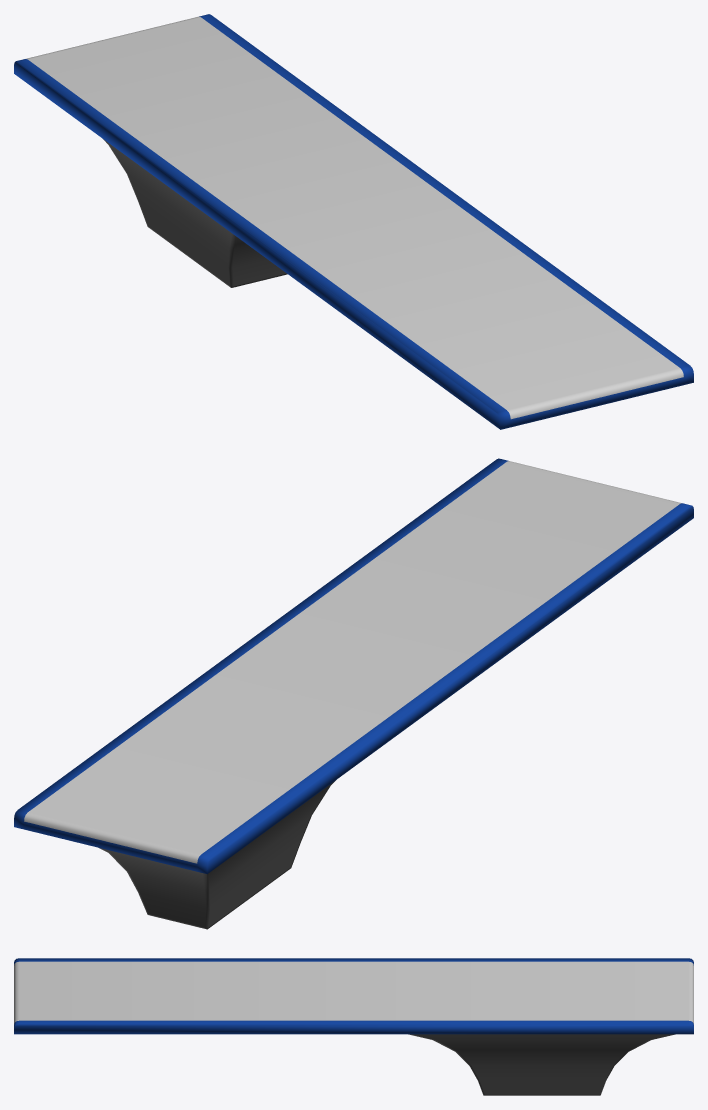
Rendered from diving-board.obj.
The picture shows the model from 3 angles, top to bottom: view 1: azimuth 30°, elevation 25°; view 2: azimuth 150°, elevation 25°; view 3: azimuth 270°, elevation 25°; orthographic projection. The views are drawn at different scales.
Visible parts, largest first — view 1: table_Cube, base_Cube.001; view 2: table_Cube, base_Cube.001; view 3: table_Cube, base_Cube.001.
Part boxes in pixels (left/top/right/bottom): table_Cube: left=14, top=14, right=693, bottom=429; base_Cube.001: left=103, top=139, right=287, bottom=287; table_Cube: left=14, top=458, right=693, bottom=874; base_Cube.001: left=98, top=780, right=335, bottom=929; table_Cube: left=14, top=958, right=693, bottom=1034; base_Cube.001: left=408, top=1034, right=675, bottom=1095.
Size of the model in its own units: 42 by 28 by 183.
